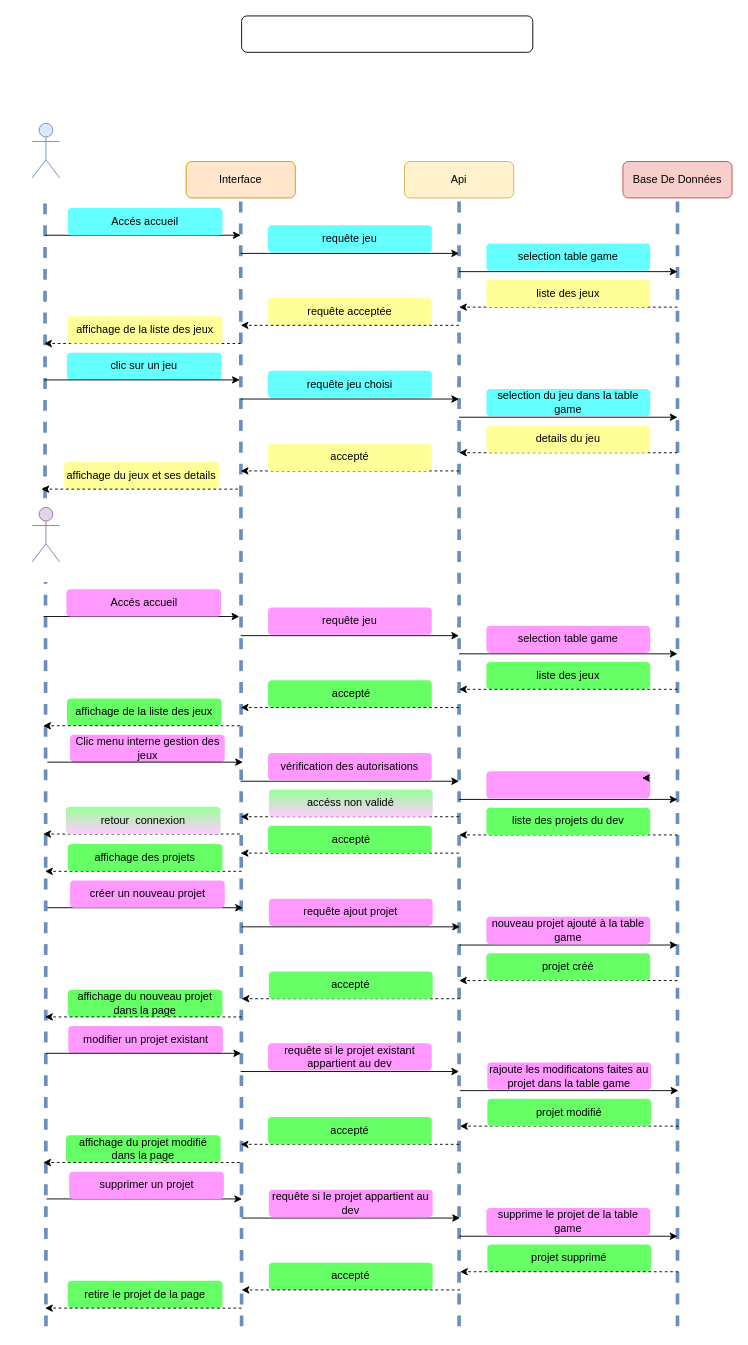
The diagram is 748 pixels wide and 1345 high, and some of its shapes have lost their labels. Each missing label, with the centre of its shape:
"developpeur" goes at (x=45, y=534).
"Diagramme de séquence" goes at (x=387, y=33).
"verif ok : selecton liste projet du dev dans la table game" goes at (x=568, y=784).
"visiteur" goes at (x=45, y=150).
